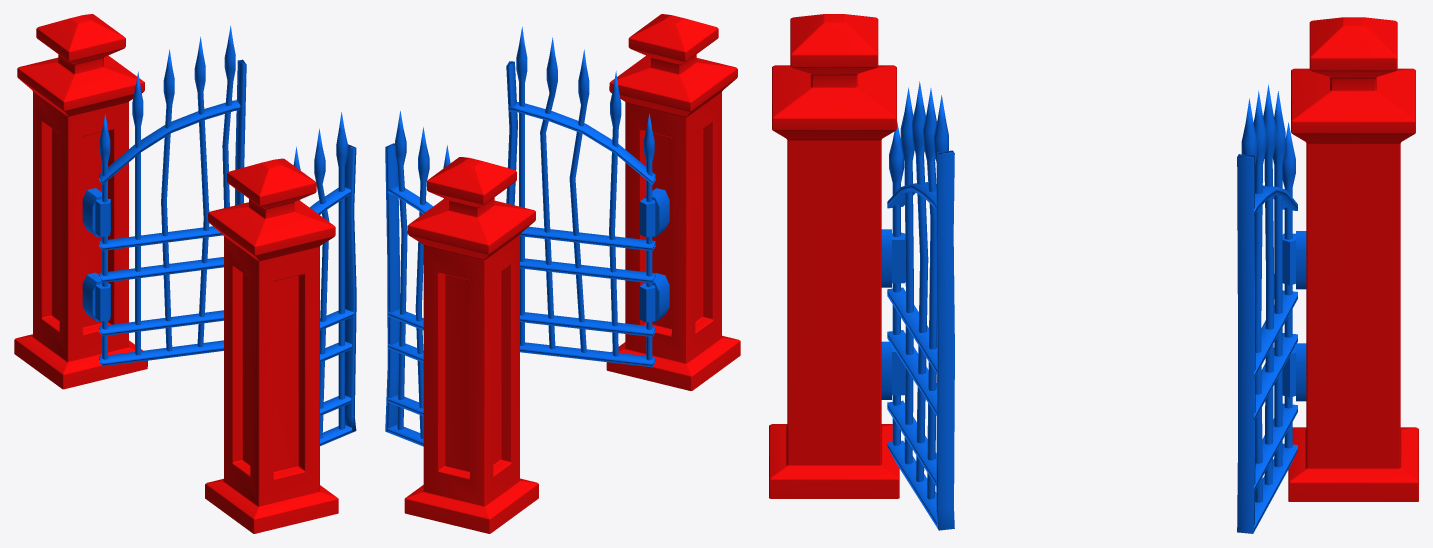
The model's file is Gate_LP.fbx.
The picture shows the model from 3 angles, left to right: view 1: azimuth 30°, elevation 25°; view 2: azimuth 150°, elevation 25°; view 3: azimuth 270°, elevation 25°; orthographic projection. The views are drawn at different scales.
Parts seen in each view (by area): view 1: Gate_triangulated_Gate2_Hinge_Attatchment, Gate_triangulated_Gate1_Hinge_Attatchment_2, Gate_triangulated_Gate1_Spikes_2_pCube6_2, Gate_triangulated_Gate2_Spikes; view 2: Gate_triangulated_Gate1_Hinge_Attatchment_2, Gate_triangulated_Gate2_Hinge_Attatchment, Gate_triangulated_Gate2_Spikes, Gate_triangulated_Gate1_Spikes_2_pCube6_2; view 3: Gate_triangulated_Gate1_Hinge_Attatchment_2, Gate_triangulated_Gate2_Hinge_Attatchment, Gate_triangulated_Gate2_Spikes, Gate_triangulated_Gate1_Spikes_2_pCube6_2.
Part boxes in pixels (bbox=[...]): Gate_triangulated_Gate2_Hinge_Attatchment: bbox=[205, 158, 338, 533]; Gate_triangulated_Gate1_Hinge_Attatchment_2: bbox=[14, 14, 147, 389]; Gate_triangulated_Gate1_Spikes_2_pCube6_2: bbox=[99, 25, 246, 366]; Gate_triangulated_Gate2_Spikes: bbox=[293, 112, 356, 445]; Gate_triangulated_Gate1_Hinge_Attatchment_2: bbox=[404, 157, 538, 533]; Gate_triangulated_Gate2_Hinge_Attatchment: bbox=[606, 14, 740, 390]; Gate_triangulated_Gate2_Spikes: bbox=[506, 27, 655, 367]; Gate_triangulated_Gate1_Spikes_2_pCube6_2: bbox=[385, 111, 450, 446]; Gate_triangulated_Gate1_Hinge_Attatchment_2: bbox=[1282, 17, 1418, 501]; Gate_triangulated_Gate2_Hinge_Attatchment: bbox=[769, 14, 905, 498]; Gate_triangulated_Gate2_Spikes: bbox=[887, 81, 954, 530]; Gate_triangulated_Gate1_Spikes_2_pCube6_2: bbox=[1237, 84, 1297, 533].
Size of the model in its own units: 238 by 451 by 587.
